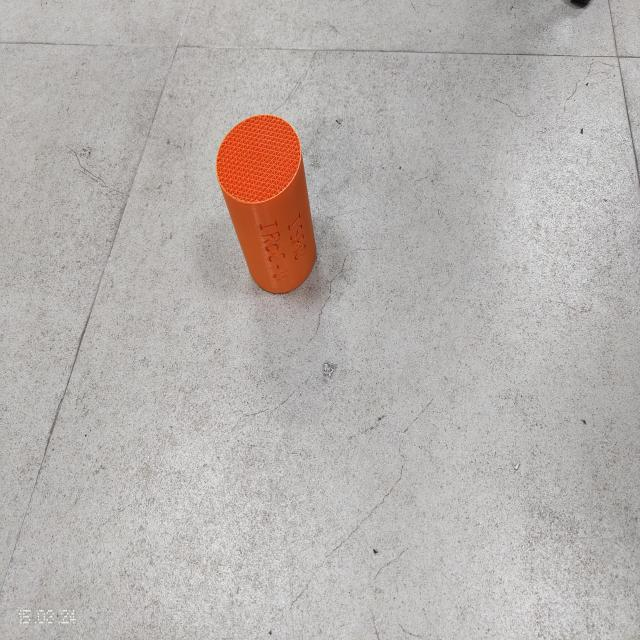Cylinder: (215, 113, 317, 294)
